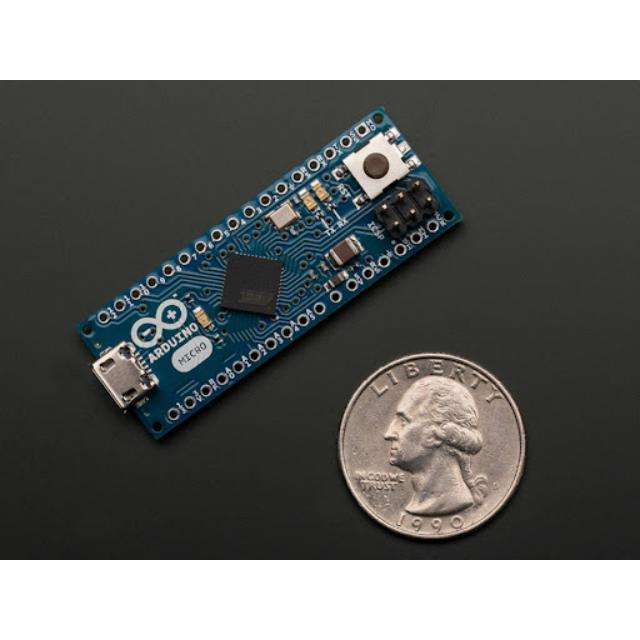Arduino-Micro: (79, 110, 459, 439)
